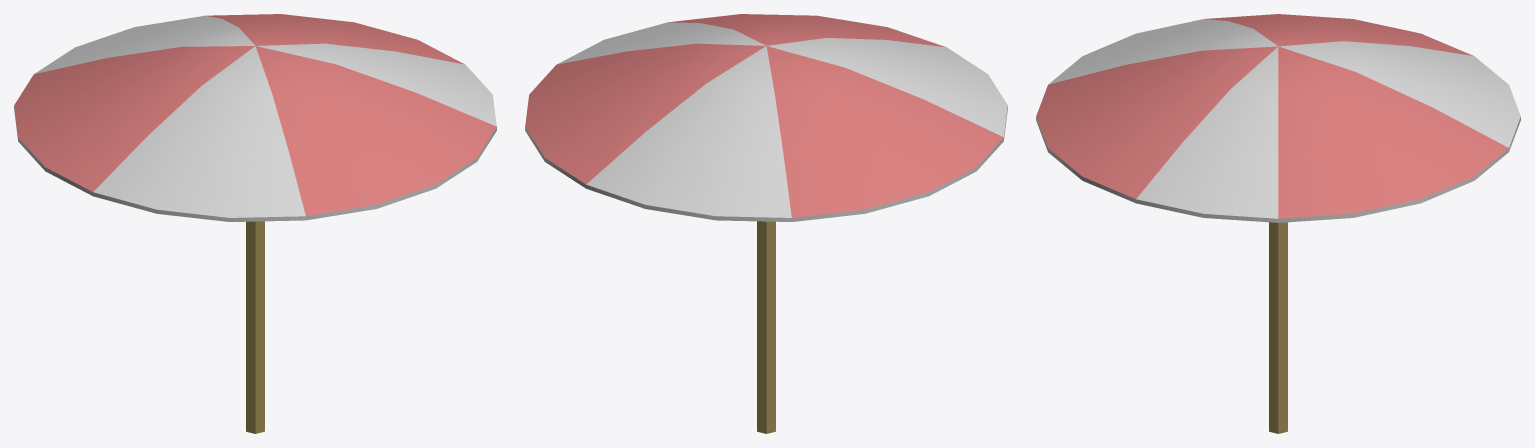
Rendered from RedUmbrella.fbx.
The picture shows the model from 3 angles, left to right: view 1: azimuth 30°, elevation 25°; view 2: azimuth 150°, elevation 25°; view 3: azimuth 270°, elevation 25°; orthographic projection.
Visible parts, largest first — view 1: pCylinder85; view 2: pCylinder85; view 3: pCylinder85.
Boxes of the visible parts, x1,y1,x2,y2 form: pCylinder85: (14,14,496,433); pCylinder85: (525,14,1007,433); pCylinder85: (1036,14,1520,433).
Size of the model in its own units: 7.59 by 6.62 by 7.59.
